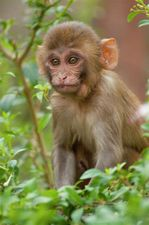monkey: (11, 7, 149, 201)
